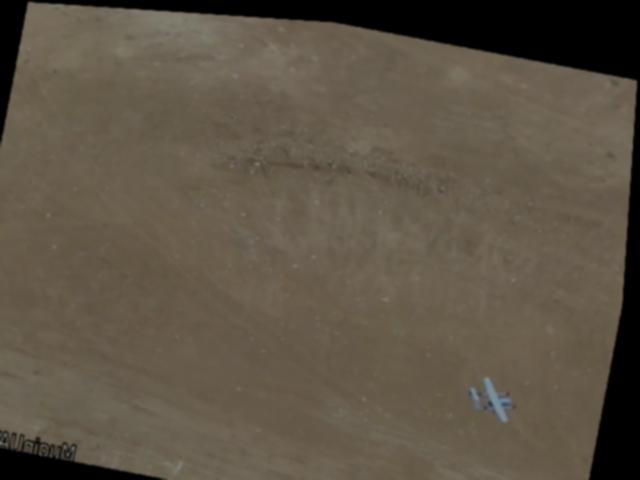plane: (470, 368, 524, 416)
